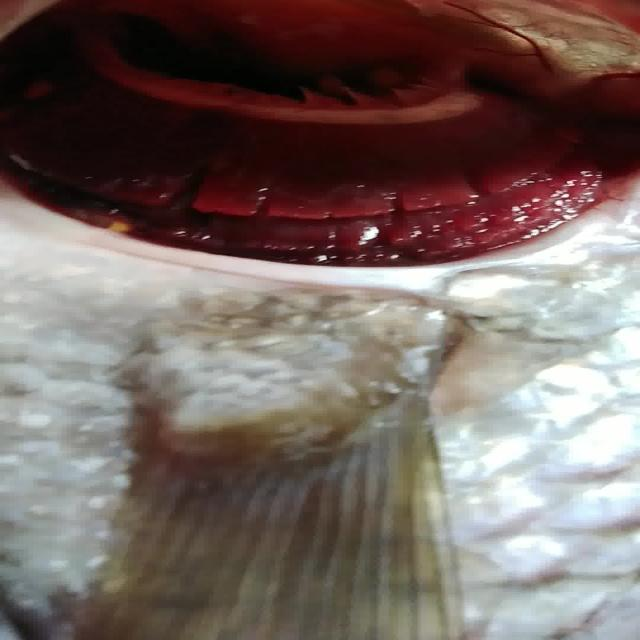Fresh: (29, 13, 640, 291)
